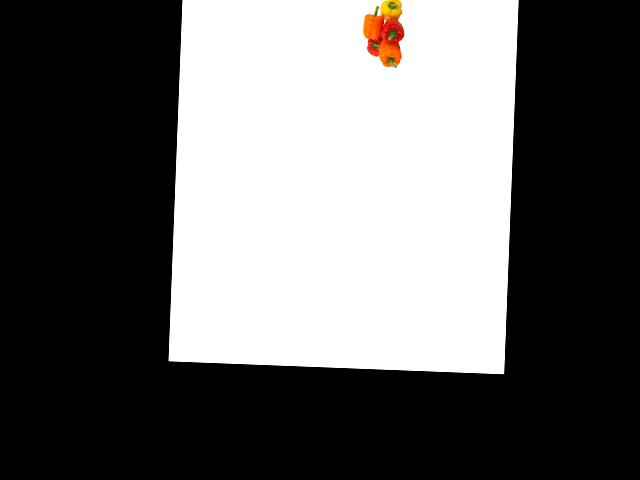bell_pepper: (375, 38, 404, 74)
